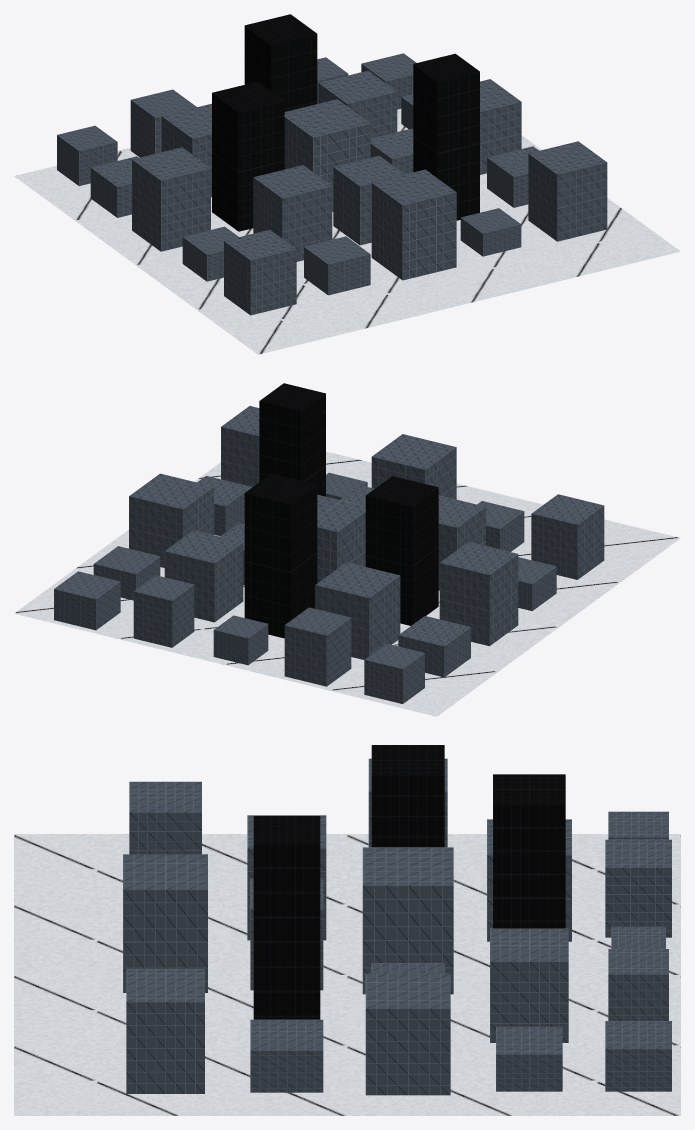
File: model-prismatic-massing-01.gltf
The picture shows the model from 3 angles, top to bottom: view 1: azimuth 30°, elevation 25°; view 2: azimuth 150°, elevation 25°; view 3: azimuth 270°, elevation 25°; orthographic projection. The views are drawn at different scales.
Parts seen in each view (by area): view 1: site-base, block-c4, block-b2, block-d3, block-d5, block-b1, block-a3, block-c2, block-b3, block-d1, block-c3, block-a4 (+12 smaller); view 2: site-base, block-a3, block-b2, block-b1, block-c4, block-a2, block-b5, block-a4, block-d1, block-e2, block-e4, block-d3 (+12 smaller); view 3: site-base, block-c4, block-a3, block-b3, block-b5, block-d3, block-d5, block-a4, block-b2, block-e2, block-c5, block-d1 (+10 smaller).
Boxes of the visible parts, x1=… form: site-base: x1=14, y1=109, x2=680, y2=354; block-c4: x1=413, y1=53, x2=479, y2=220; block-b2: x1=212, y1=81, x2=284, y2=231; block-d3: x1=371, y1=169, x2=456, y2=280; block-d5: x1=528, y1=141, x2=607, y2=241; block-b1: x1=132, y1=147, x2=210, y2=251; block-a3: x1=244, y1=14, x2=317, y2=111; block-c2: x1=253, y1=165, x2=332, y2=261; block-b3: x1=284, y1=99, x2=370, y2=211; block-d1: x1=224, y1=229, x2=296, y2=315; block-c3: x1=333, y1=155, x2=404, y2=245; block-a4: x1=318, y1=70, x2=397, y2=138; site-base: x1=14, y1=451, x2=680, y2=716; block-a3: x1=244, y1=473, x2=317, y2=638; block-b2: x1=365, y1=476, x2=438, y2=625; block-b1: x1=439, y1=542, x2=518, y2=646; block-c4: x1=259, y1=383, x2=325, y2=496; block-a2: x1=315, y1=562, x2=400, y2=659; block-b5: x1=129, y1=473, x2=213, y2=567; block-a4: x1=164, y1=530, x2=243, y2=622; block-d1: x1=531, y1=494, x2=604, y2=579; block-e2: x1=284, y1=607, x2=351, y2=686; block-e4: x1=133, y1=575, x2=194, y2=647; block-d3: x1=371, y1=434, x2=456, y2=499; site-base: x1=14, y1=834, x2=680, y2=1115; block-c4: x1=253, y1=816, x2=320, y2=1019; block-a3: x1=493, y1=774, x2=565, y2=928; block-b3: x1=362, y1=847, x2=453, y2=994; block-b5: x1=365, y1=973, x2=450, y2=1095; block-d3: x1=123, y1=854, x2=207, y2=992; block-d5: x1=126, y1=969, x2=204, y2=1093; block-a4: x1=490, y1=928, x2=568, y2=1042; block-b2: x1=371, y1=745, x2=444, y2=847; block-e2: x1=605, y1=839, x2=671, y2=937; block-c5: x1=250, y1=1019, x2=323, y2=1092; block-d1: x1=129, y1=781, x2=201, y2=854.
Bounding box in the file's own units: 110 × 36 × 110.
3 materials, 3 textured.
